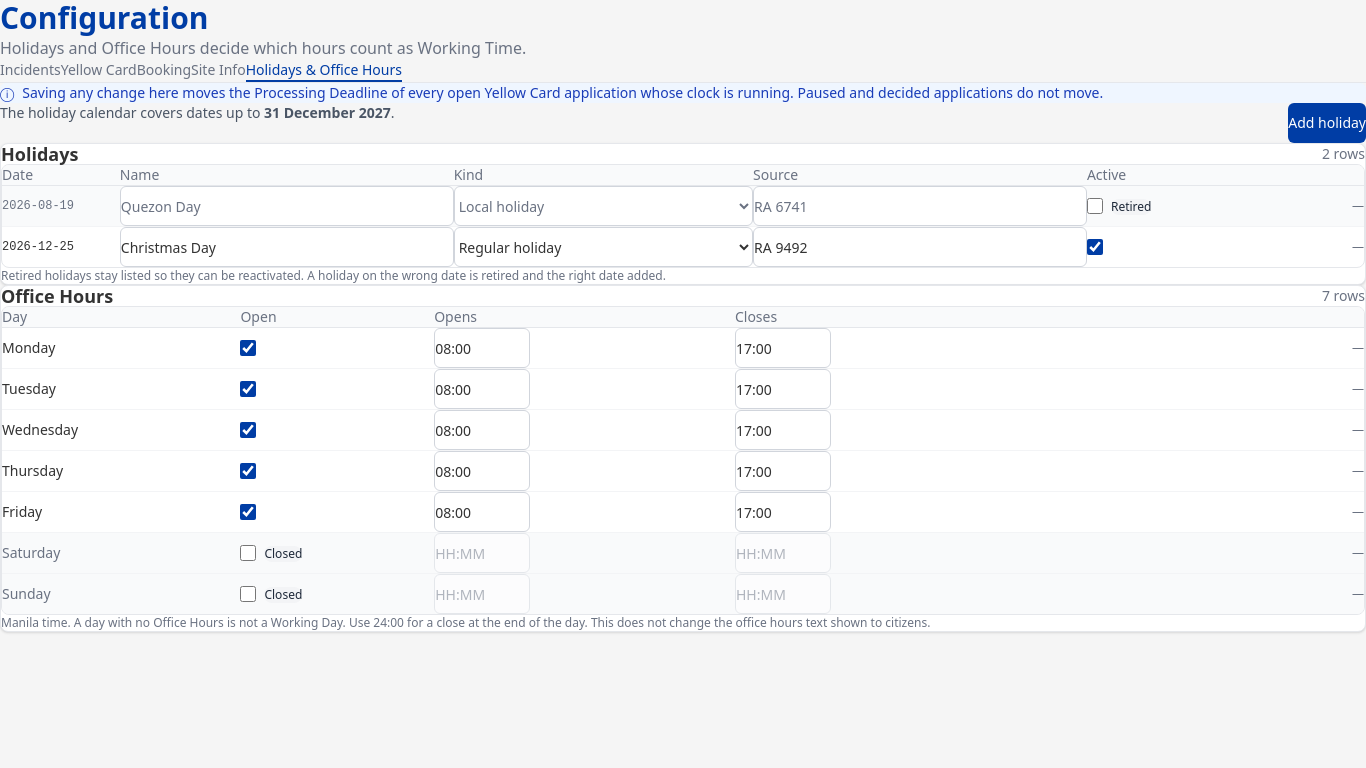
CalendarView — Holidays › shows the database's message when the date already has an entry
Expected: the field showing "Christmas Day" is shown, [120,227,454,267]
Click the button "Add holiday": [1327, 123] box [1288,103,1365,143]
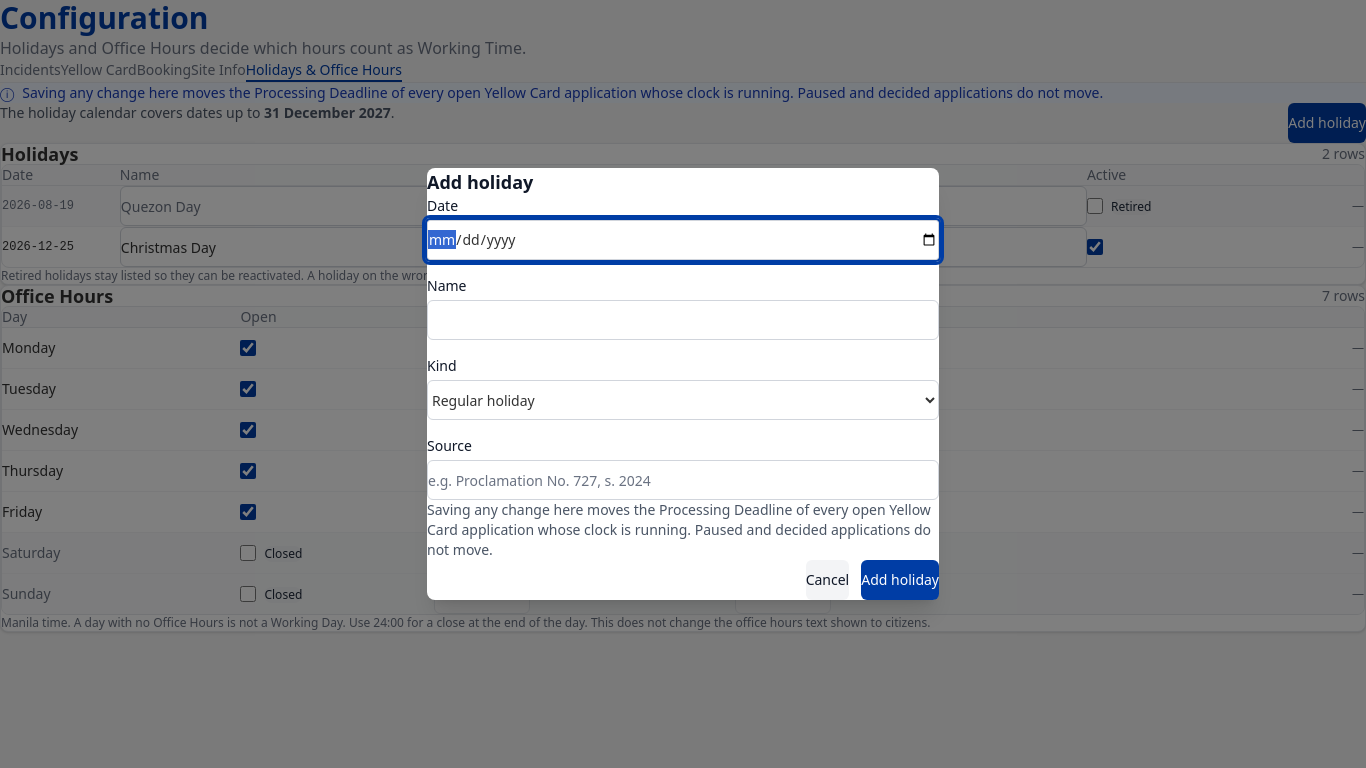
In the date field labelled "Date": [683, 240] box [427,220,939,260], type "2026-08-19"
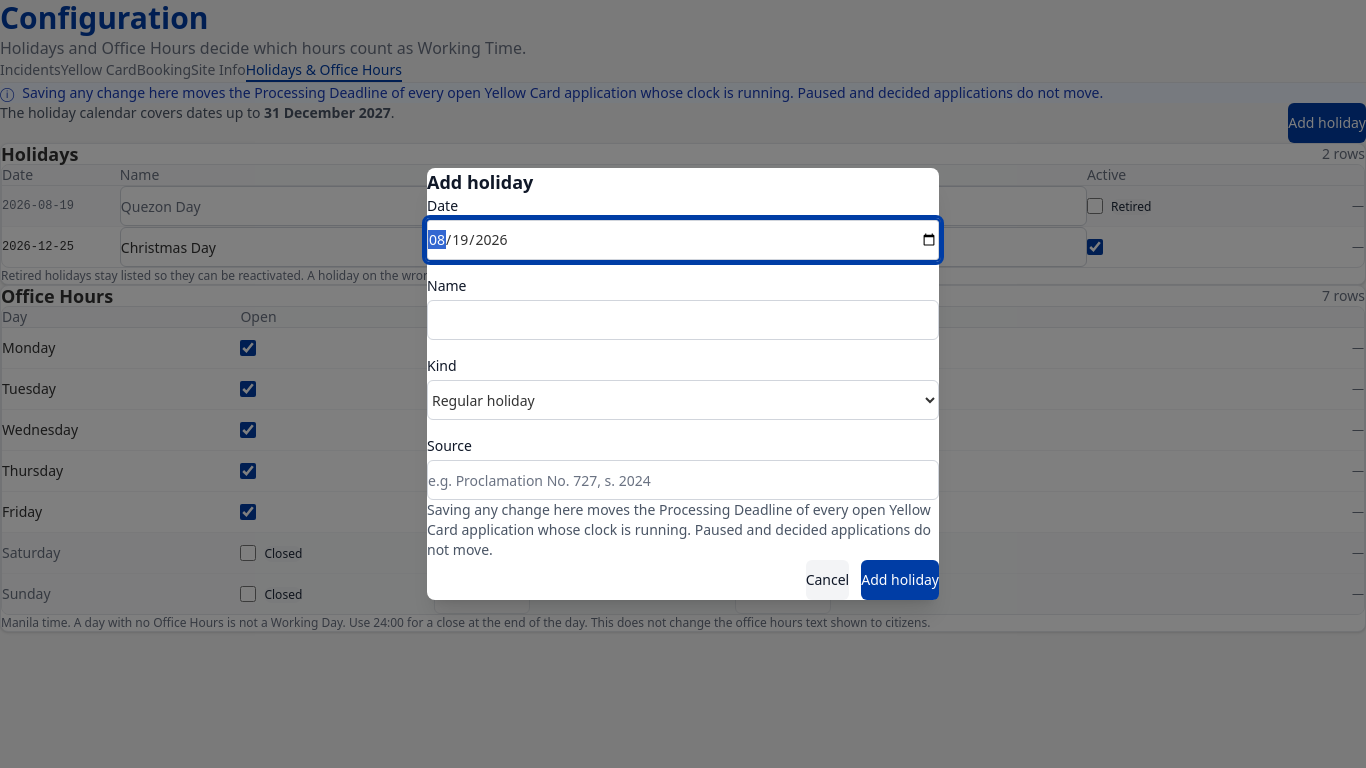
In the field labelled "Name": [683, 320] box [427,300,939,340], type "Quezon Day"
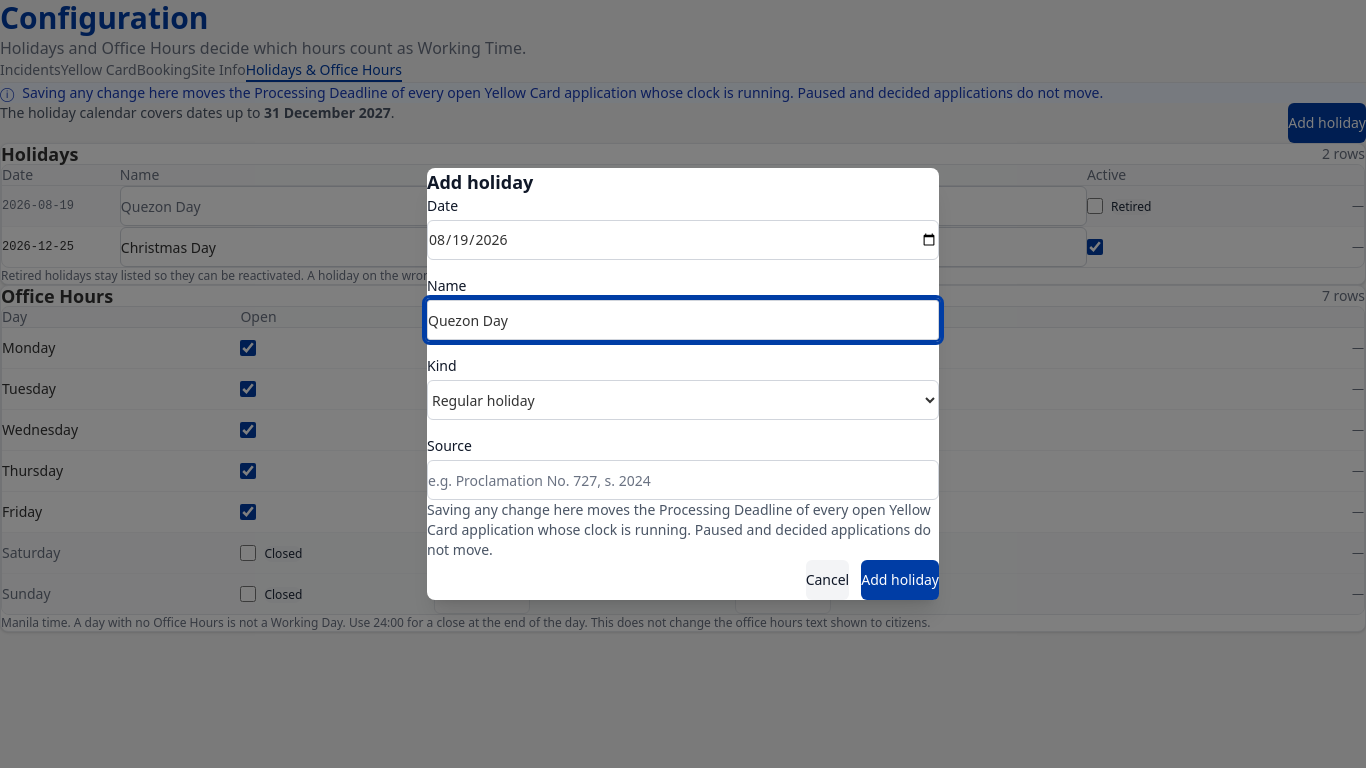
In the field labelled "Source": [683, 480] box [427,460,939,500], type "RA 6741"
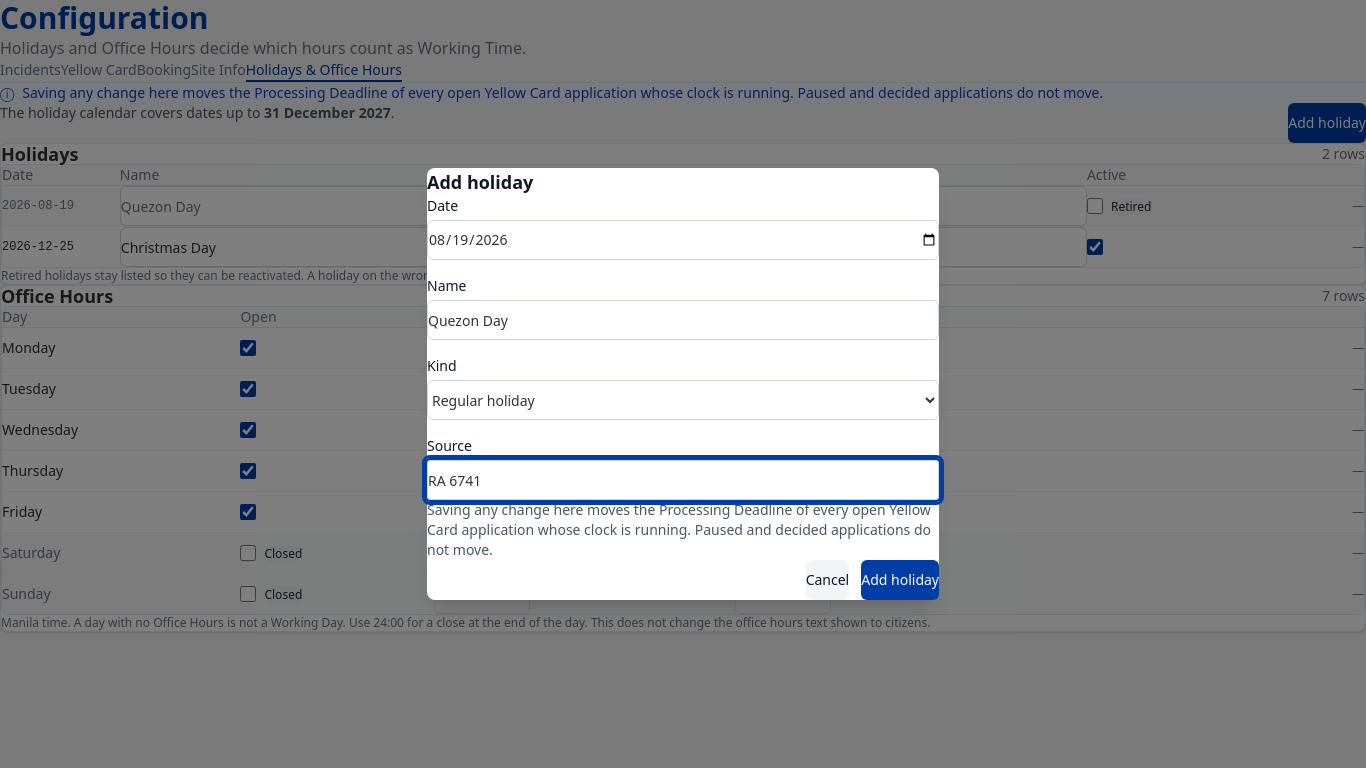
Click the button "Add holiday": [900, 580] box [861,560,939,600]
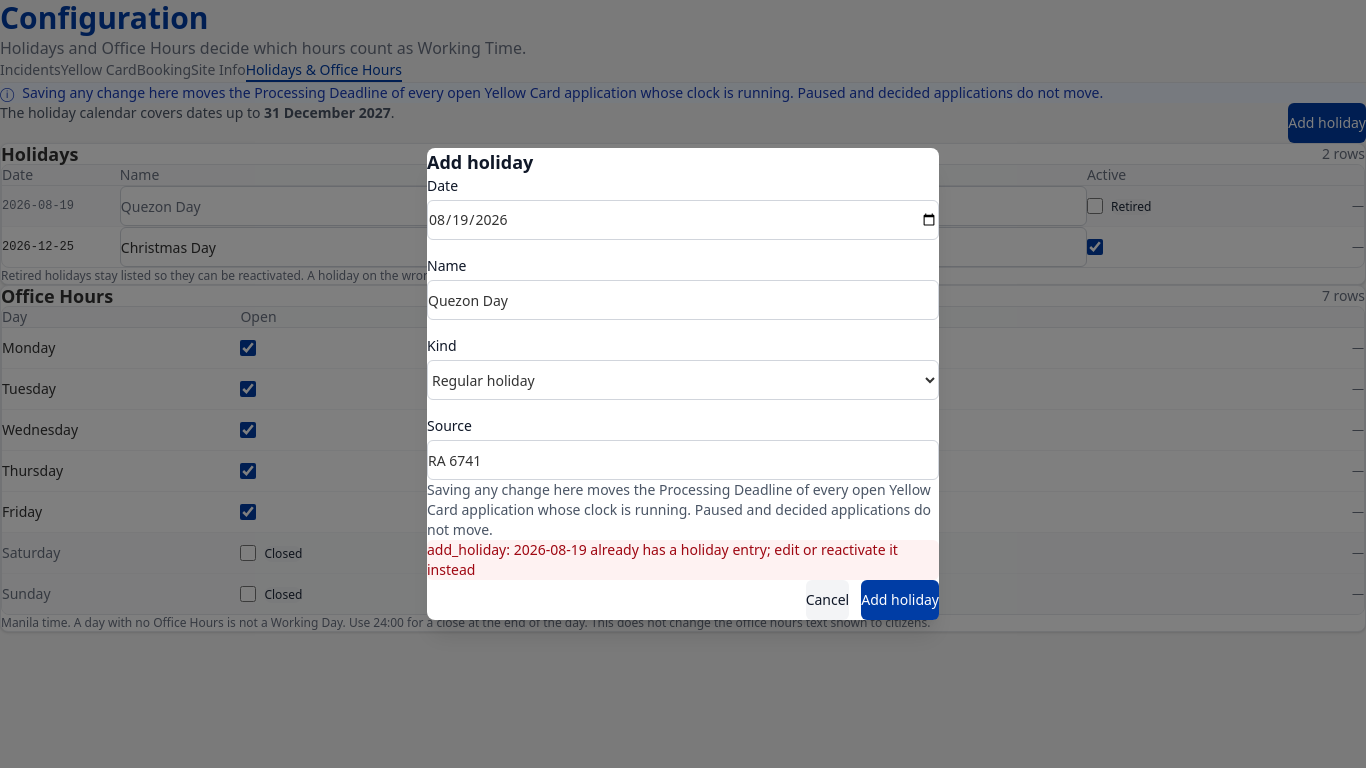
Expected: the message shows "add_holiday: 2026-08-19 already has a holiday entry; edit or reactivate it instead", [427,540,898,579]
